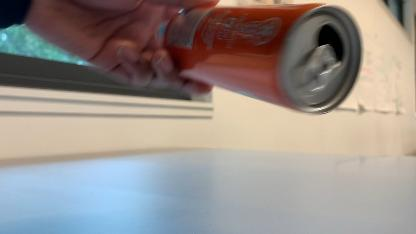Can: (148, 0, 370, 119)
